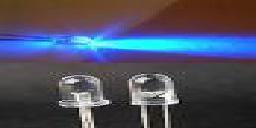LED: (56, 72, 114, 128), (125, 73, 181, 128)
